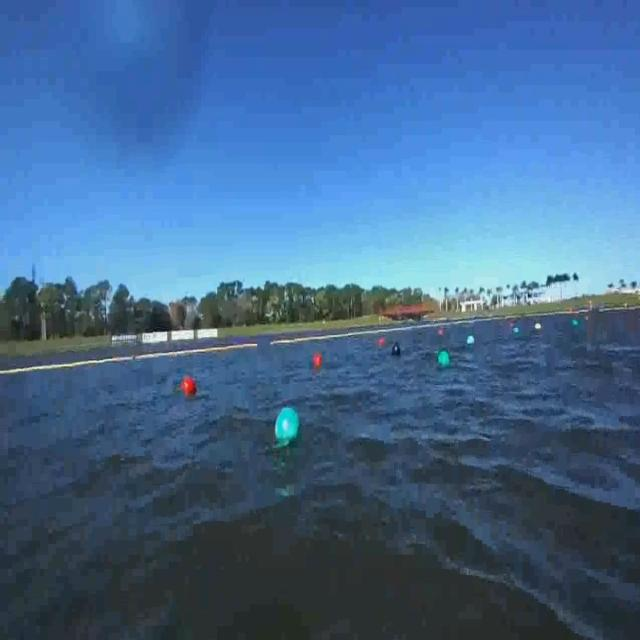black-buoy: (391, 344, 401, 358)
green-buoy: (276, 408, 301, 442), (438, 349, 452, 370)
red-buoy: (181, 376, 196, 397), (314, 352, 322, 368)
